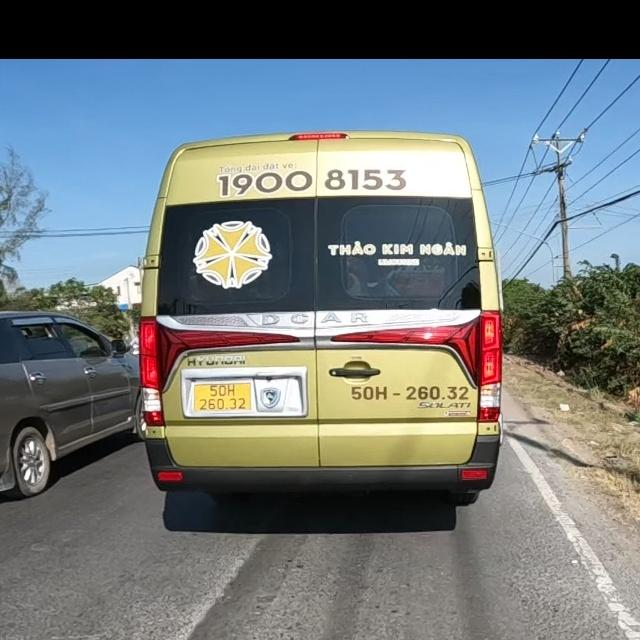license-plate: (192, 380, 252, 412)
